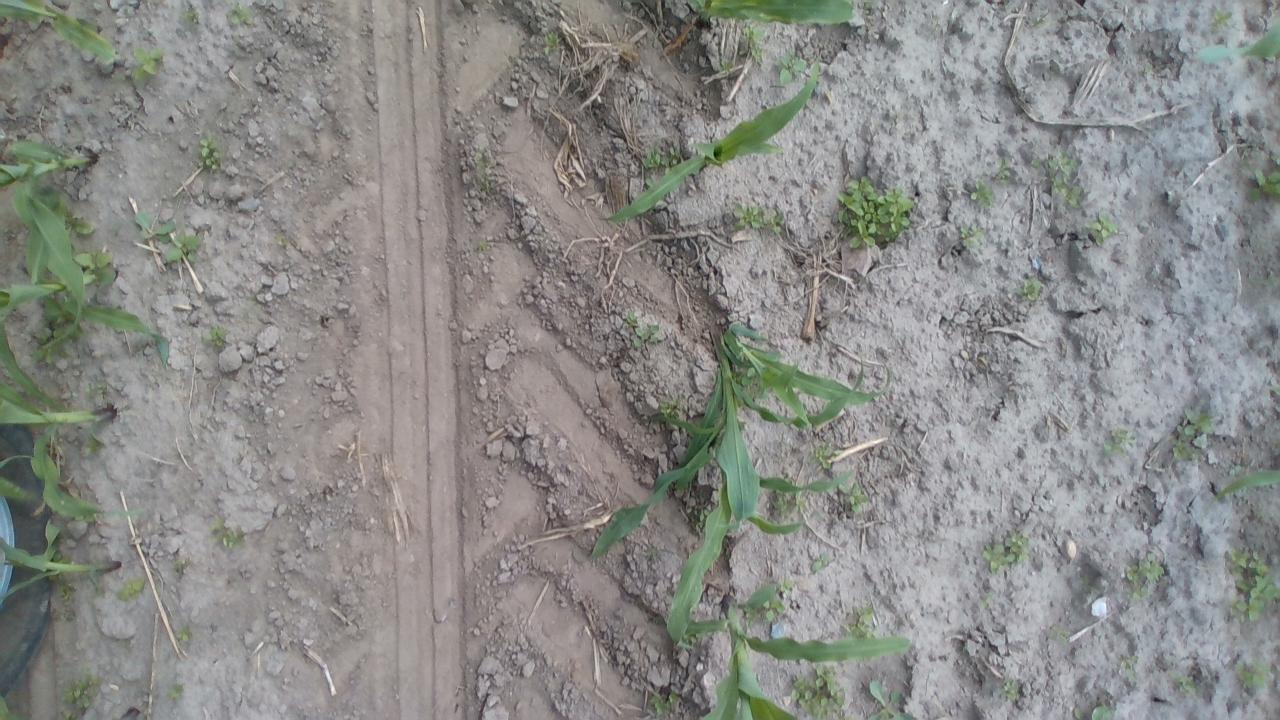Maize: (585, 317, 888, 643), (592, 49, 822, 232), (0, 290, 150, 520), (681, 579, 914, 720), (2, 192, 172, 370), (0, 134, 99, 352), (0, 518, 122, 608), (1, 0, 120, 64), (688, 0, 862, 28), (1185, 23, 1280, 63), (0, 454, 45, 505), (1213, 470, 1280, 503), (0, 695, 27, 720), (119, 706, 141, 720)
Weeds: (835, 172, 914, 248), (1220, 546, 1280, 624), (132, 208, 209, 266), (1028, 147, 1082, 210), (789, 668, 848, 720), (1169, 405, 1216, 461), (981, 528, 1034, 576), (862, 679, 918, 720), (1124, 550, 1166, 602), (728, 202, 788, 235), (56, 671, 105, 709), (205, 512, 248, 555), (622, 310, 662, 350), (1234, 657, 1274, 697), (76, 250, 119, 287), (1082, 211, 1122, 250), (1243, 164, 1280, 204), (126, 46, 164, 84), (772, 49, 808, 88), (966, 177, 1002, 213), (1100, 424, 1134, 460), (194, 132, 224, 172), (740, 23, 769, 63), (846, 602, 874, 640), (640, 146, 680, 172), (769, 491, 810, 516), (62, 206, 96, 236), (838, 482, 868, 515), (956, 218, 986, 250), (646, 689, 680, 717), (223, 1, 257, 28), (114, 576, 147, 602), (808, 445, 836, 474), (1015, 277, 1045, 303), (1116, 652, 1142, 682), (1044, 624, 1074, 650), (1069, 703, 1114, 720), (1209, 8, 1235, 37), (988, 152, 1014, 180), (52, 573, 78, 601), (692, 495, 710, 535), (998, 674, 1022, 704), (1075, 571, 1100, 599), (83, 431, 107, 460), (976, 586, 999, 616), (208, 325, 233, 351), (472, 170, 494, 196), (542, 31, 562, 58), (764, 599, 788, 621), (658, 398, 684, 418), (1172, 674, 1196, 695), (643, 548, 667, 568), (810, 549, 831, 571), (164, 681, 183, 704), (180, 7, 202, 26), (472, 145, 490, 167), (85, 380, 108, 397), (717, 58, 735, 76), (776, 576, 792, 596), (178, 623, 194, 642), (740, 367, 755, 386), (682, 631, 701, 646), (745, 608, 760, 627), (475, 237, 491, 254), (56, 708, 78, 720), (1228, 463, 1242, 478), (276, 232, 291, 246), (862, 0, 876, 12), (1032, 14, 1048, 24), (1269, 154, 1280, 168), (644, 175, 654, 187)
